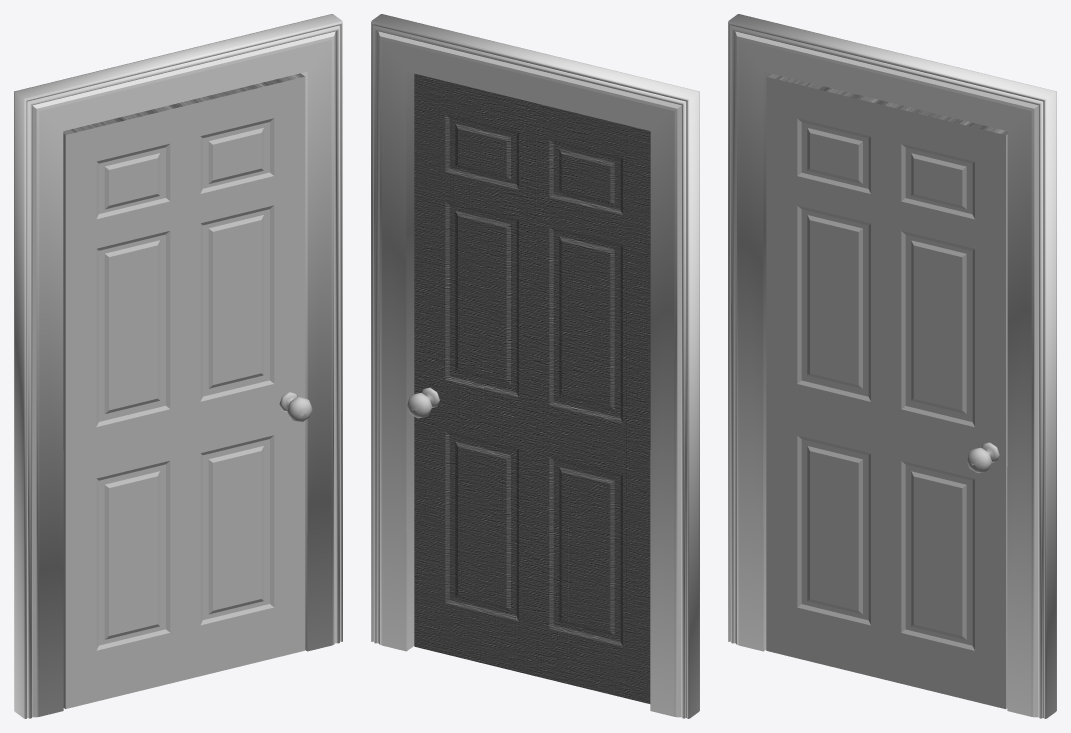
The model's file is M_Door.FBX.
3 views of the same model, side by side, from view 1: azimuth 30°, elevation 25°; view 2: azimuth 150°, elevation 25°; view 3: azimuth 330°, elevation 25° (orthographic).
Visible parts, largest first — view 1: Door, Door_Trim; view 2: Door, Door_Trim; view 3: Door, Door_Trim.
Part boxes in pixels (x1,y1,x2,y2): Door: [63, 73, 312, 708]; Door_Trim: [14, 14, 342, 718]; Door: [407, 73, 650, 703]; Door_Trim: [371, 14, 699, 718]; Door: [766, 73, 1007, 709]; Door_Trim: [728, 14, 1056, 718].
Size of the model in its own units: 120 by 222 by 25.63.
